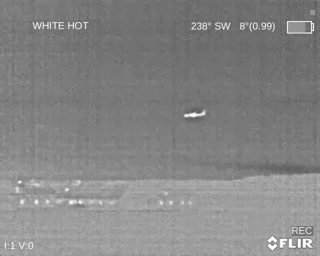AIRPLANE: (183, 109, 206, 119)
